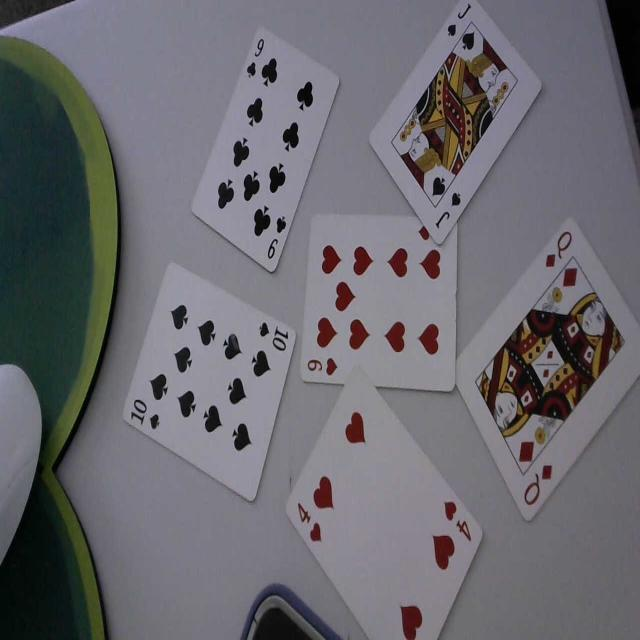10S: (257, 316, 289, 352), (131, 396, 161, 433)
4H: (441, 498, 472, 546), (295, 499, 325, 548)
9C: (265, 212, 288, 262), (245, 35, 265, 81)
9H: (306, 354, 340, 376)
JS: (434, 190, 464, 230), (446, 1, 474, 40)
QD: (522, 462, 554, 508), (544, 225, 572, 269)
